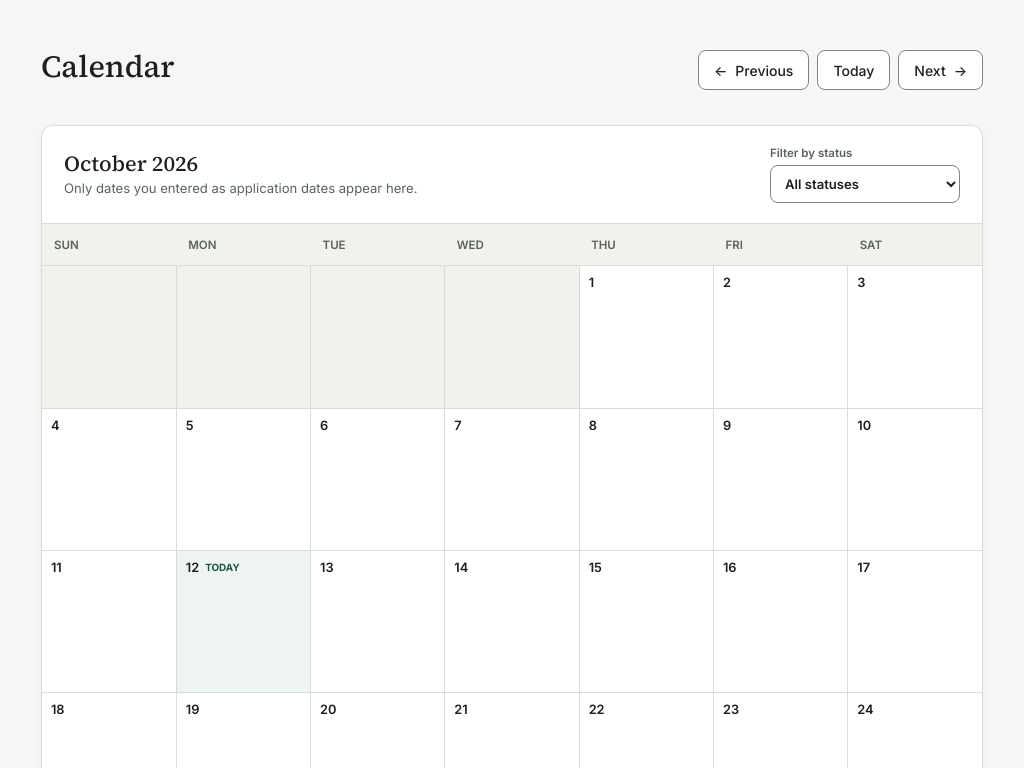
Test: Calendar › navigates between months and returns to the current month with Today
Click the button with aria-label "Next month" at (941,70), box [898,50,983,90]
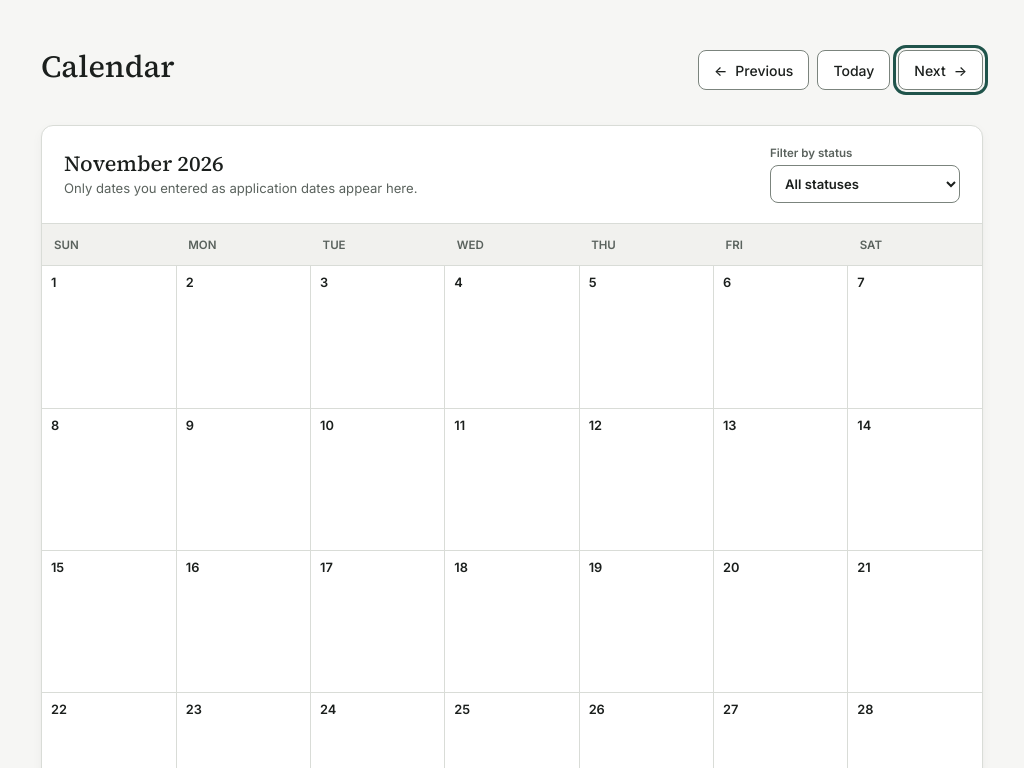
Check: the heading "November 2026" is shown, box [64,149,224,178]
Click the button with aria-label "Previous month" at (754,70), box [698,50,809,90]
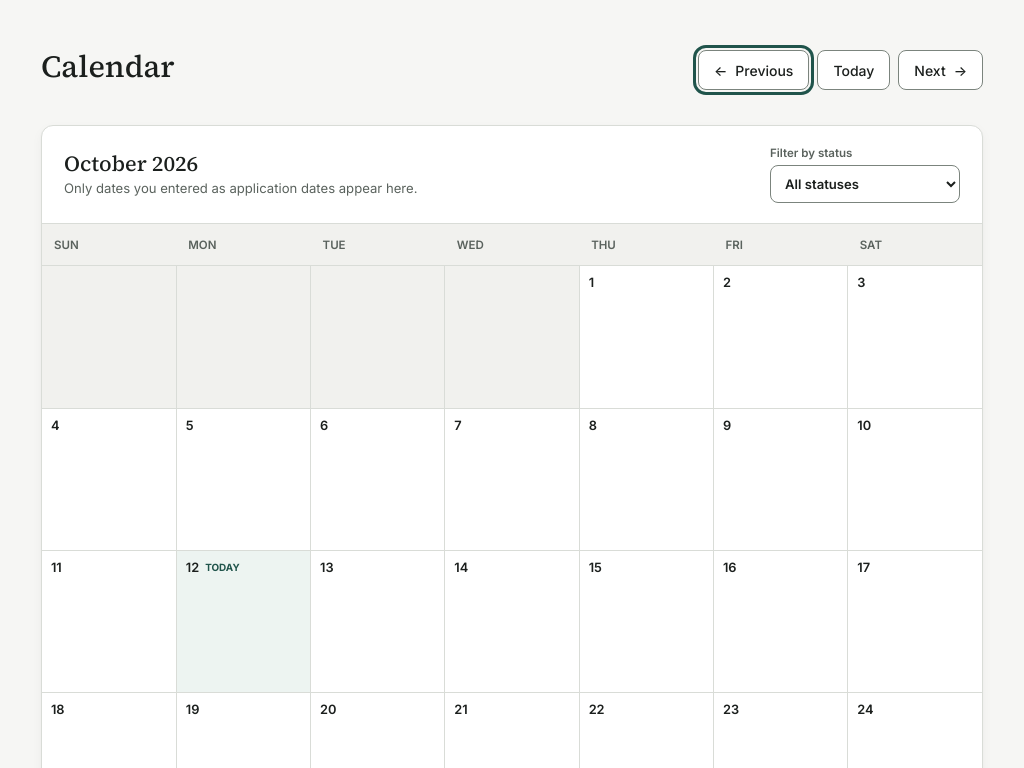
Check: the heading "October 2026" is shown, box [64,149,198,178]
Click the button with aria-label "Previous month" at (754,70), box [698,50,809,90]
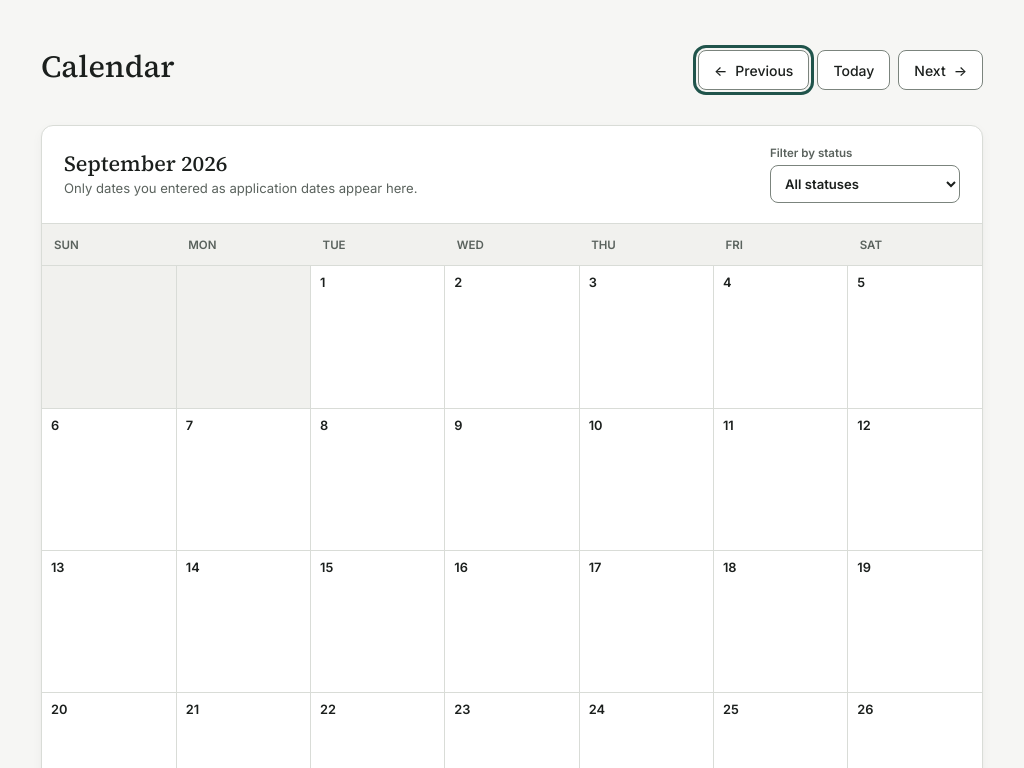
Check: the heading "September 2026" is shown, box [64,149,228,178]
Click the button "Today" at (854,70), box [817,50,890,90]
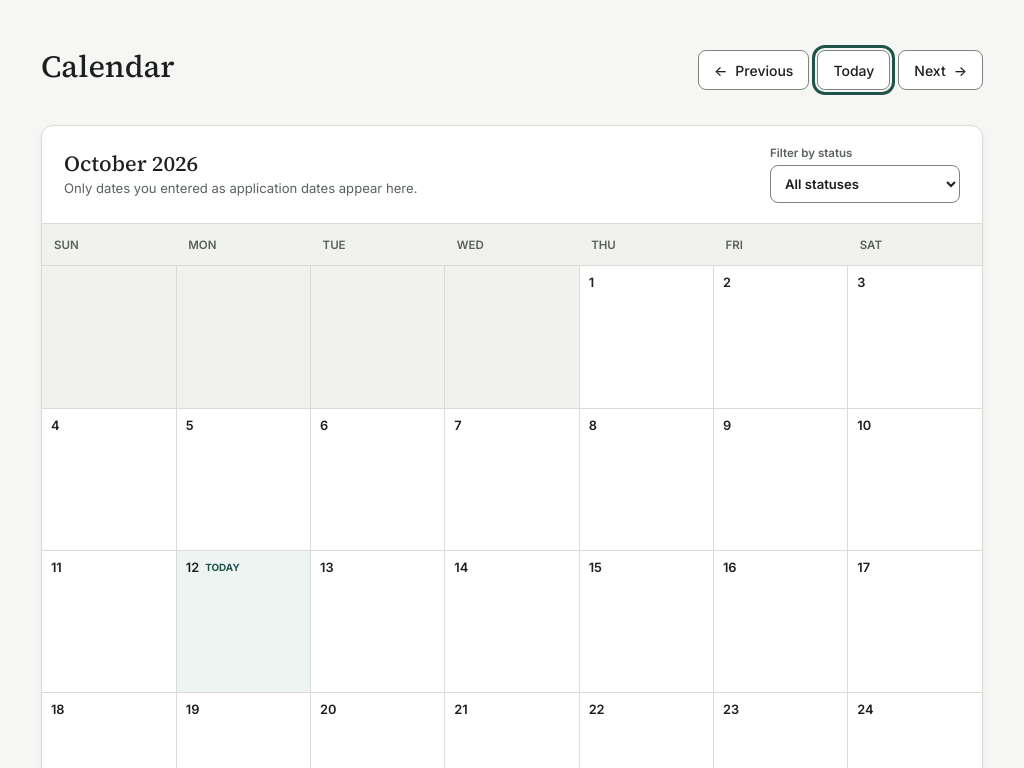
Check: the heading "October 2026" is shown, box [64,149,198,178]
